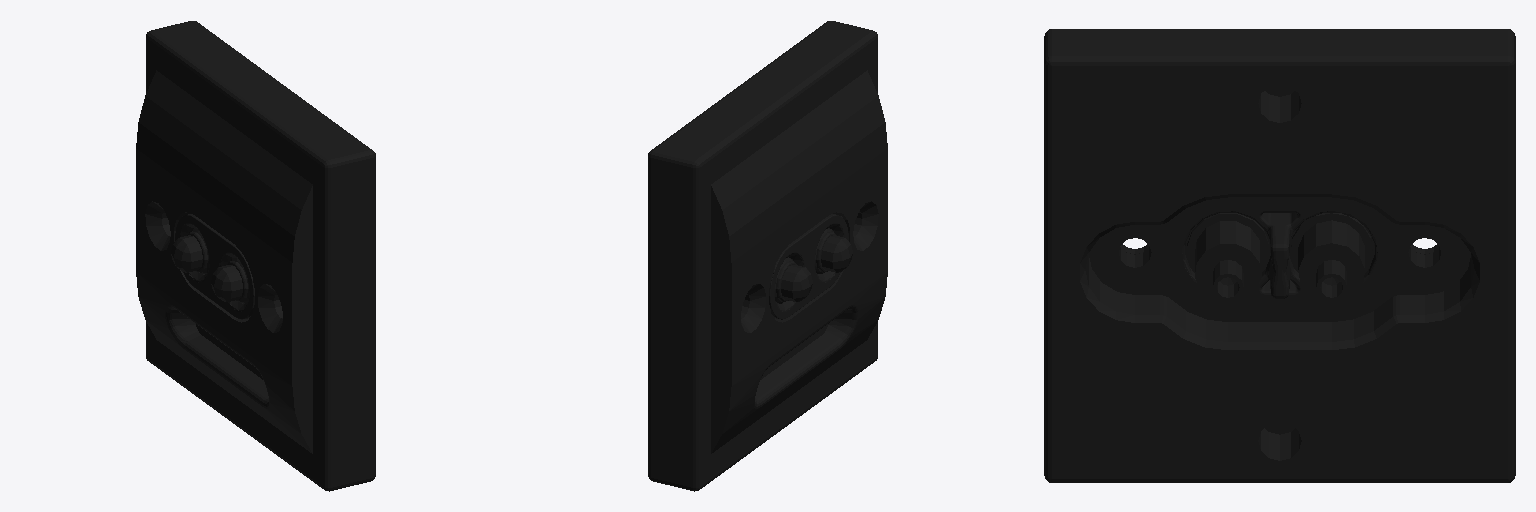
The robot description file, URDF, robot "lekiwi_dock":
<?xml version="1.0" ?>
<!-- =================================================================================== -->
<!-- |    This document was autogenerated by xacro from dock.urdf.xacro                | -->
<!-- |    EDITING THIS FILE BY HAND IS NOT RECOMMENDED                                 | -->
<!-- =================================================================================== -->
<robot name="lekiwi_dock">
  <!-- Dock-side connector. The mesh shares the base CAD origin, so dock_link coincides with base_link
       when docked; place the dock in the world by the pose of dock_link. -->
  <link name="dock_link">
    <visual>
      <origin rpy="0 0 4.71238898038469" xyz="0 0 0"/>
      <geometry>
        <mesh filename="../meshes/dock_connector_station.stl"/>
      </geometry>
      <material name="dock_charcoal">
        <color rgba="0.15 0.15 0.15 1.0"/>
      </material>
    </visual>
    <collision>
      <origin rpy="0 0 4.71238898038469" xyz="0 0 0"/>
      <geometry>
        <mesh filename="../meshes/dock_connector_station.stl"/>
      </geometry>
    </collision>
  </link>
</robot>

--- Render facts (derived) ---
Views: 3 orthographic renders of the robot side by side, from view 1: azimuth 30°, elevation 25°; view 2: azimuth 150°, elevation 25°; view 3: azimuth 270°, elevation 25°.
Robot: lekiwi_dock — 1 links, 0 joints (none); root link dock_link; default pose: all joints at 0.
Links seen in each view (by area): view 1: dock_link; view 2: dock_link; view 3: dock_link.
Boxes of the visible links, x1,y1,x2,y2 form: dock_link: (136, 21, 375, 491); dock_link: (648, 21, 887, 491); dock_link: (1044, 29, 1515, 482).
Size in the robot's own frame: 0.0169 by 0.0455 by 0.0455 metres.
1 mesh visuals loaded from 1 distinct referenced files (1 binary STL).
